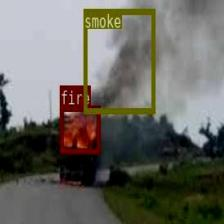fire: (60, 105, 100, 152)
smoke: (83, 8, 154, 113)
